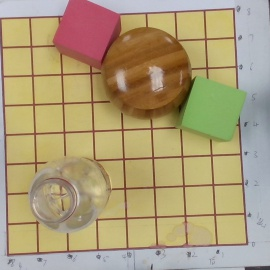bottle: (27, 156, 117, 230)
chess: (103, 26, 191, 115)
